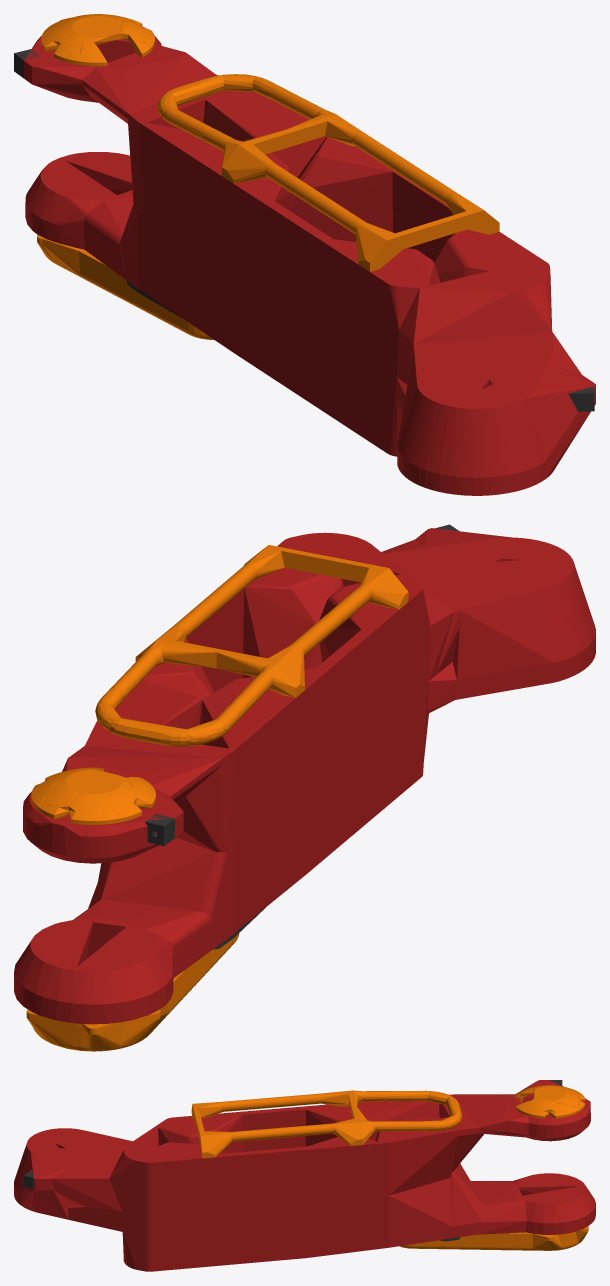
The model's file is RLEG_LINK3_mesh.dae.
3 renders of one model, top to bottom at view 1: azimuth 30°, elevation 25°; view 2: azimuth 150°, elevation 25°; view 3: azimuth 270°, elevation 25°, orthographic. The views are drawn at different scales.
Visible parts, largest first — view 1: RLEG_LINK3 (×4); view 2: RLEG_LINK3 (×5); view 3: RLEG_LINK3 (×4).
Part boxes in pixels (x1,y1,x2,y2): RLEG_LINK3 (×4): (24, 14, 595, 495); RLEG_LINK3 (×5): (14, 528, 595, 1051); RLEG_LINK3 (×4): (14, 1080, 595, 1271).
Size of the model in its own units: 0.1228 by 0.1244 by 0.4565.
